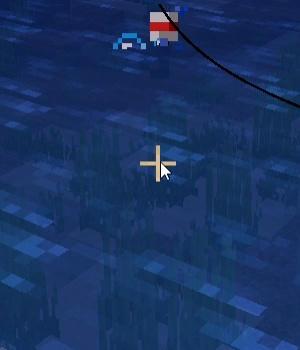up: (143, 8, 179, 81)
